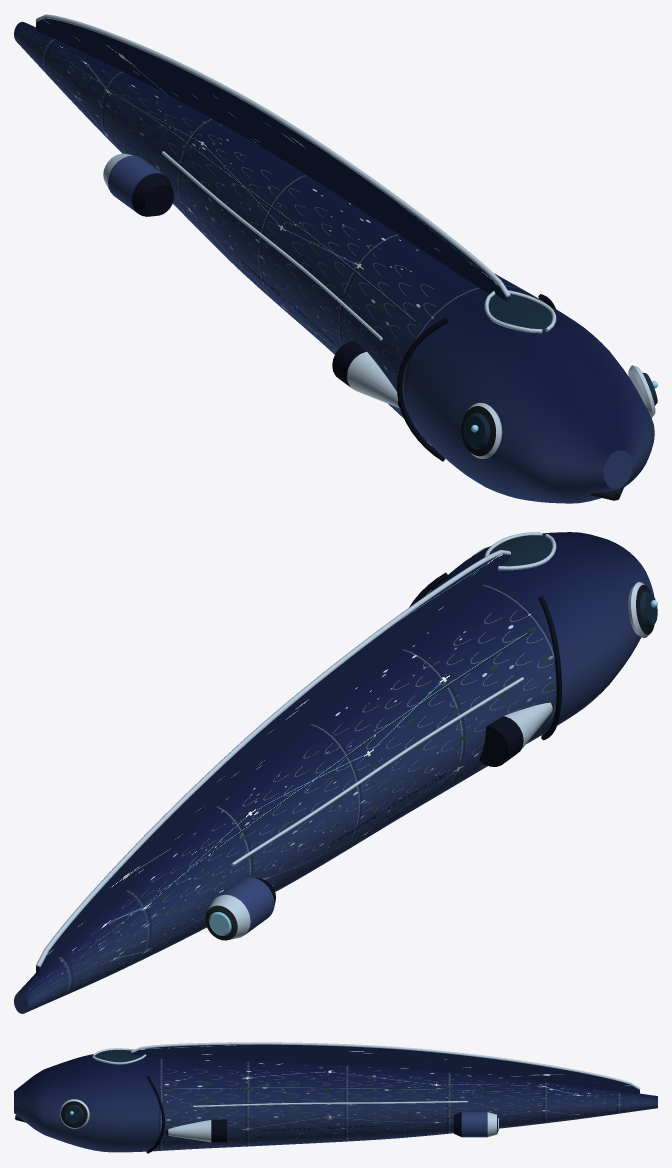
3 views of the same model, one above another, from view 1: azimuth 30°, elevation 25°; view 2: azimuth 150°, elevation 25°; view 3: azimuth 270°, elevation 25° (orthographic). The views are drawn at different scales.
Parts seen in each view (by area): view 1: moray_hull; view 2: moray_hull; view 3: moray_hull.
Boxes of the visible parts, box(x1,y1,x2,y2) form: moray_hull: box(14, 14, 657, 503); moray_hull: box(14, 532, 657, 1013); moray_hull: box(14, 1042, 657, 1153).
Size of the model in its own units: 10.79 by 10.8 by 60.
1 material, 1 textured.
